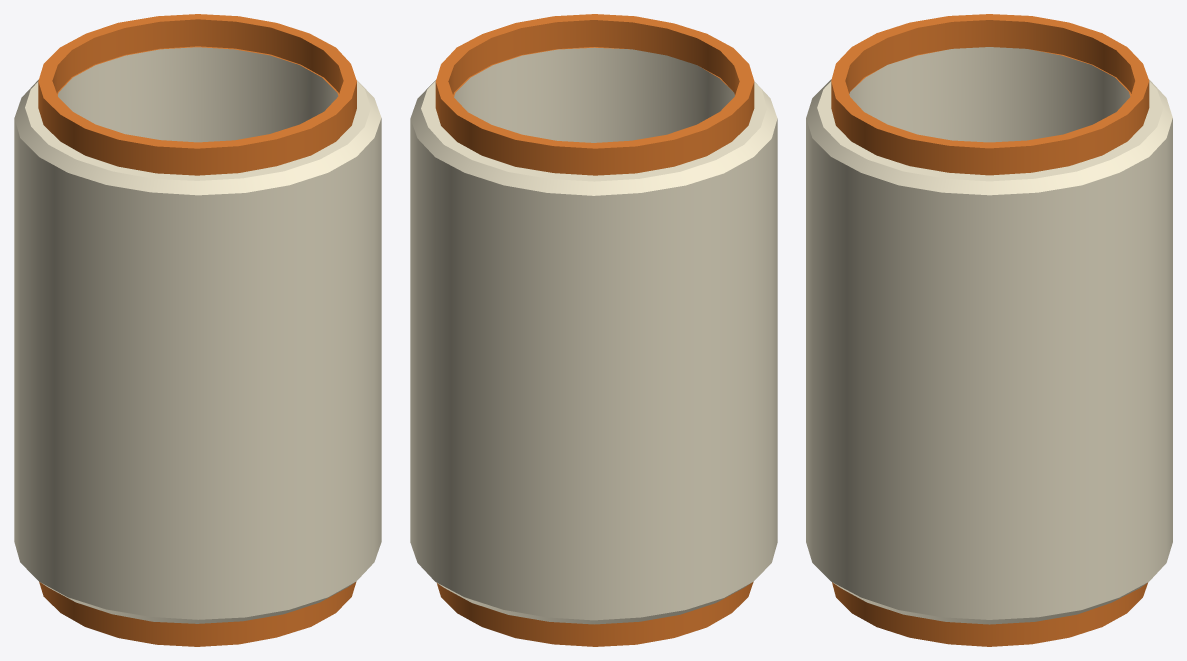
The model's file is pipes_supply__softener-yes_and_plumbing-cpvc_and_water-well_and_flowsmart-no.glb.
3 renders of one model, left to right at view 1: azimuth 30°, elevation 25°; view 2: azimuth 150°, elevation 25°; view 3: azimuth 270°, elevation 25°, orthographic.
Visible parts, largest first — view 1: fit_coupling_pipe_supply_softener_feed; view 2: fit_coupling_pipe_supply_softener_feed; view 3: fit_coupling_pipe_supply_softener_feed.
Part boxes in pixels (<box>): fit_coupling_pipe_supply_softener_feed: <box>14,14,381,646</box>; fit_coupling_pipe_supply_softener_feed: <box>410,14,777,646</box>; fit_coupling_pipe_supply_softener_feed: <box>806,14,1172,646</box>.
Size of the model in its own units: 0.0286 by 0.0428 by 0.0286.
